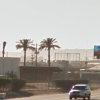Palm tree: (14, 24, 58, 66)
